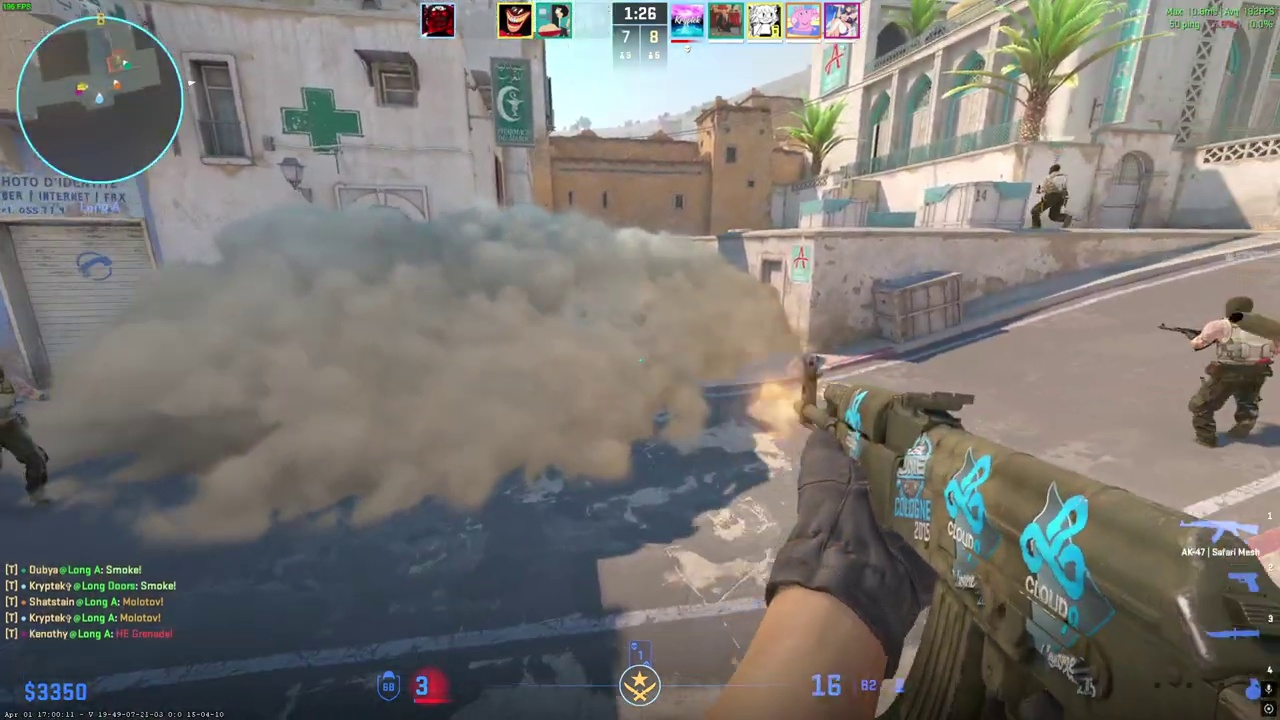Terrorist: (1188, 296, 1280, 449), (0, 367, 50, 508), (1031, 164, 1073, 229)
